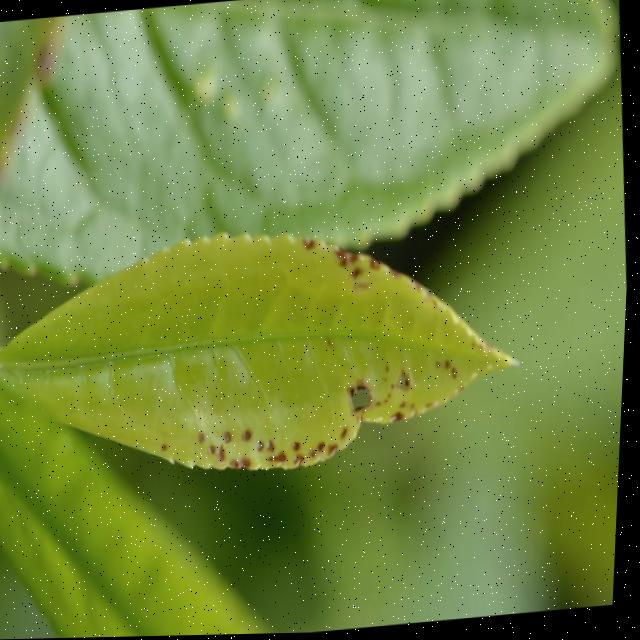Tea red scab: (283, 194, 527, 385), (155, 368, 462, 498)
